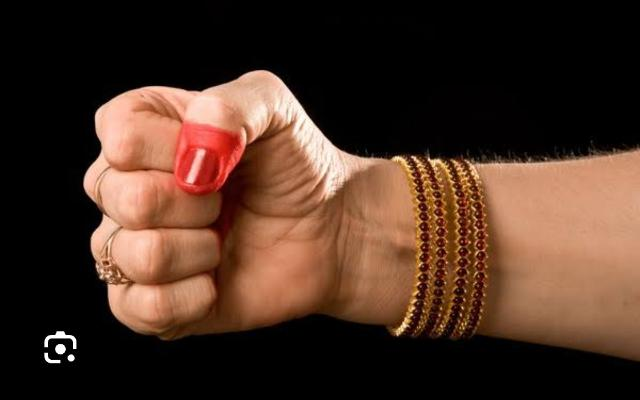mushti: (82, 71, 421, 344)
